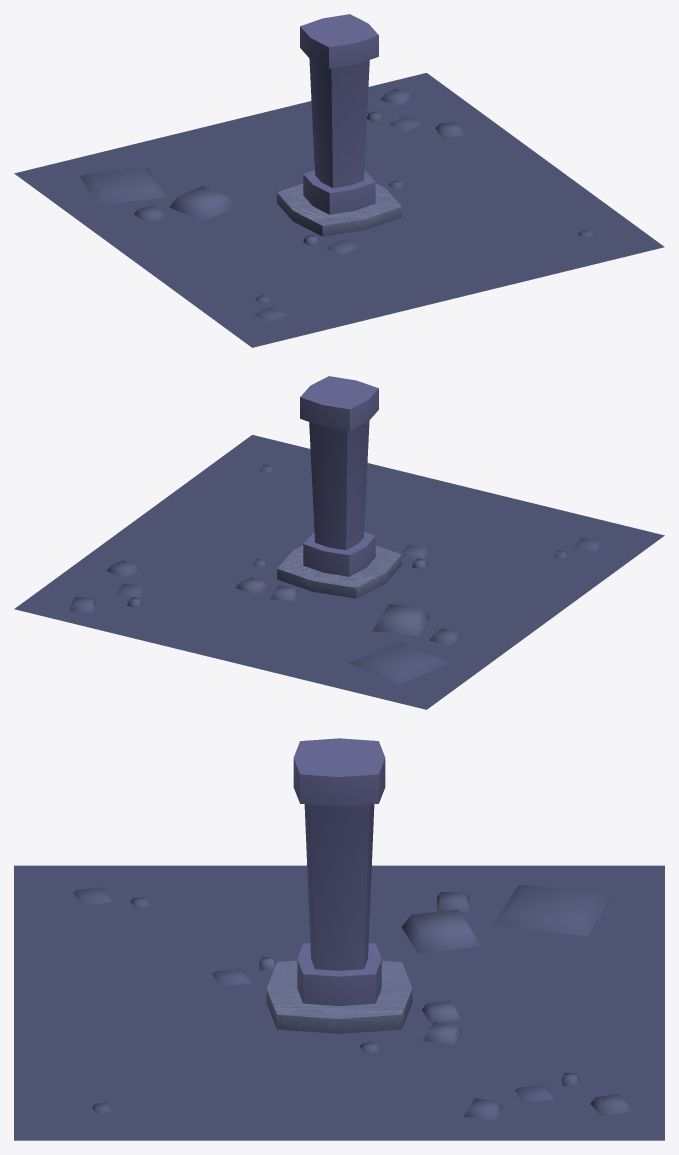
The model's file is template-floor-big.glb.
3 renders of one model, top to bottom at view 1: azimuth 30°, elevation 25°; view 2: azimuth 150°, elevation 25°; view 3: azimuth 270°, elevation 25°, orthographic. The views are drawn at different scales.
Parts seen in each view (by area): view 1: template-floor-big; view 2: template-floor-big; view 3: template-floor-big.
Part boxes in pixels (x1,y1,x2,y2): template-floor-big: (14, 14, 664, 347); template-floor-big: (14, 376, 664, 709); template-floor-big: (14, 738, 664, 1140).
Bounding box in the file's own units: 8 × 3.33 × 8.
